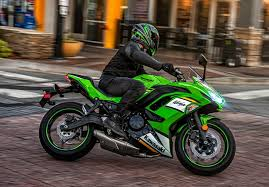motorcycle: (32, 54, 237, 178)
